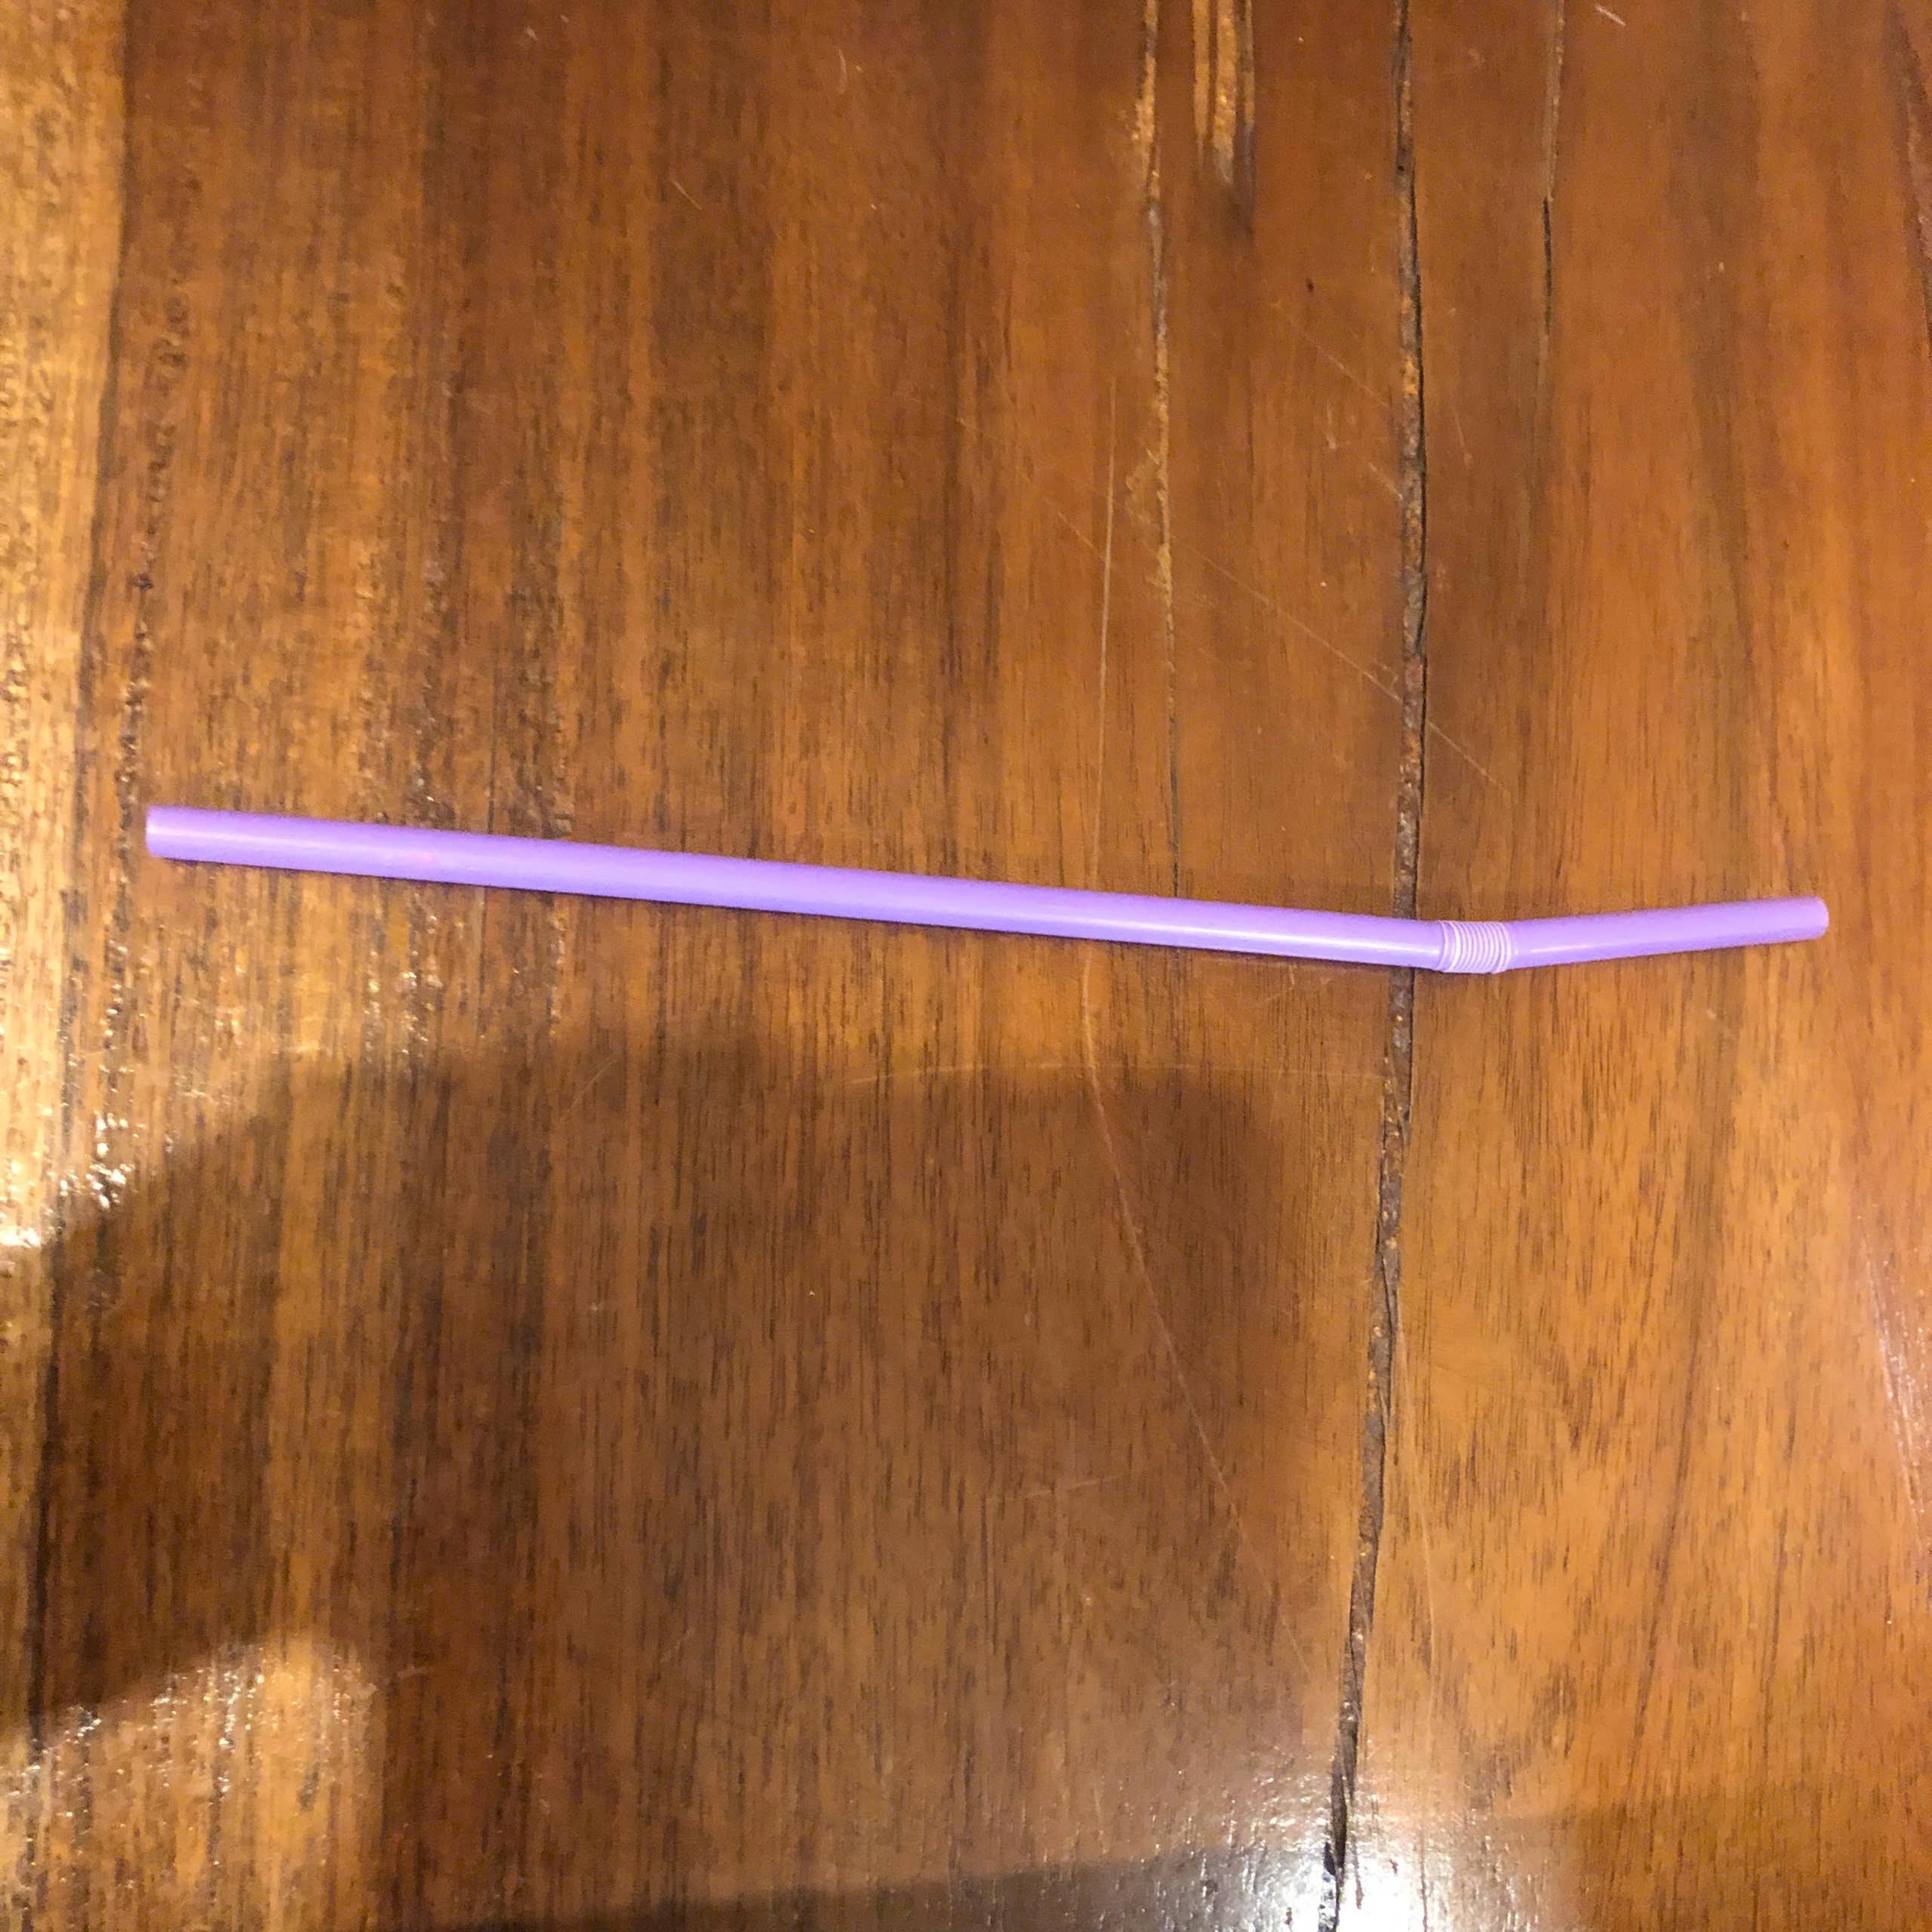Vo co: (143, 801, 1838, 977)
